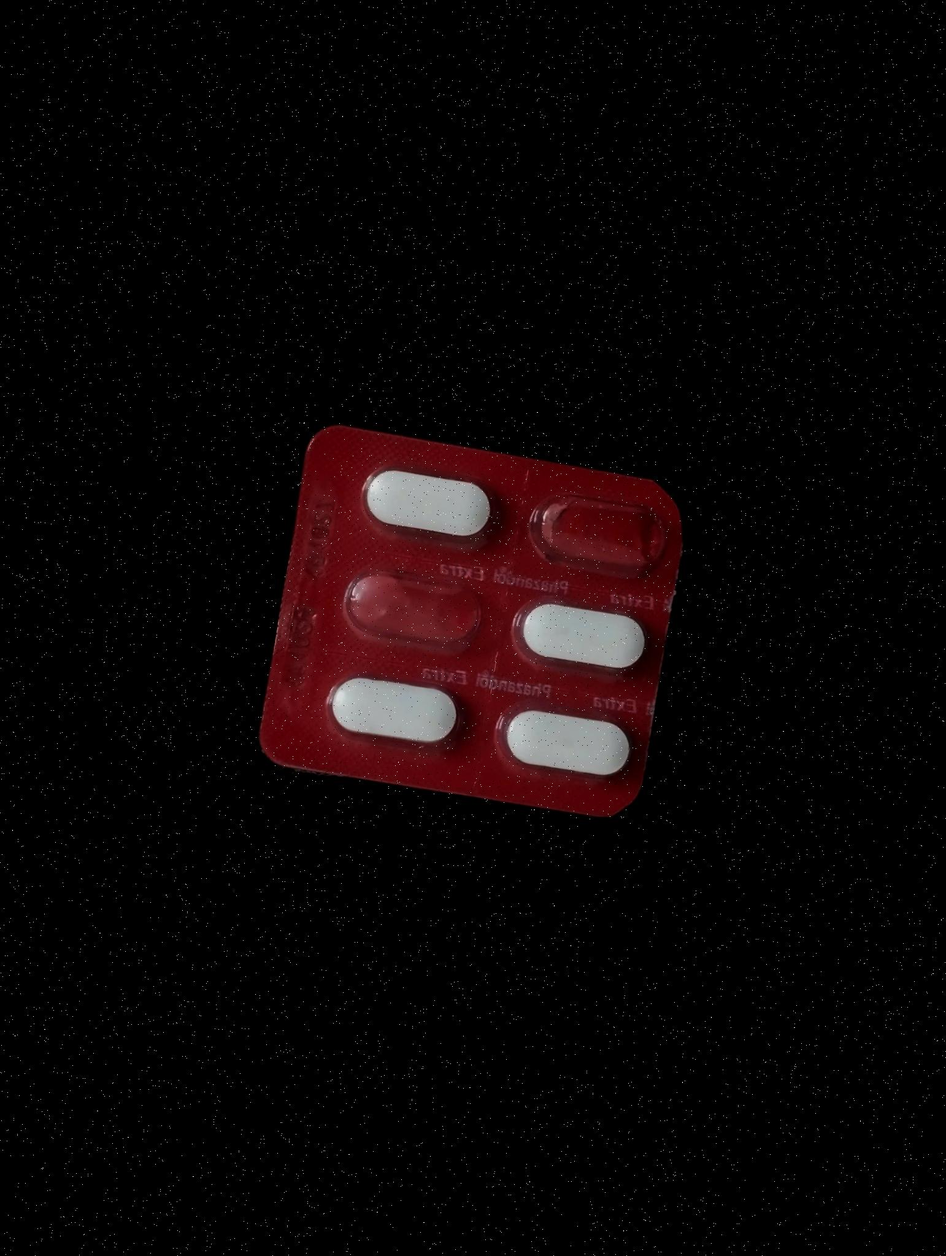Empty: (332, 552, 498, 668), (522, 484, 675, 585)
Full: (347, 445, 513, 561), (505, 585, 656, 685), (320, 662, 466, 758), (491, 700, 638, 794)
